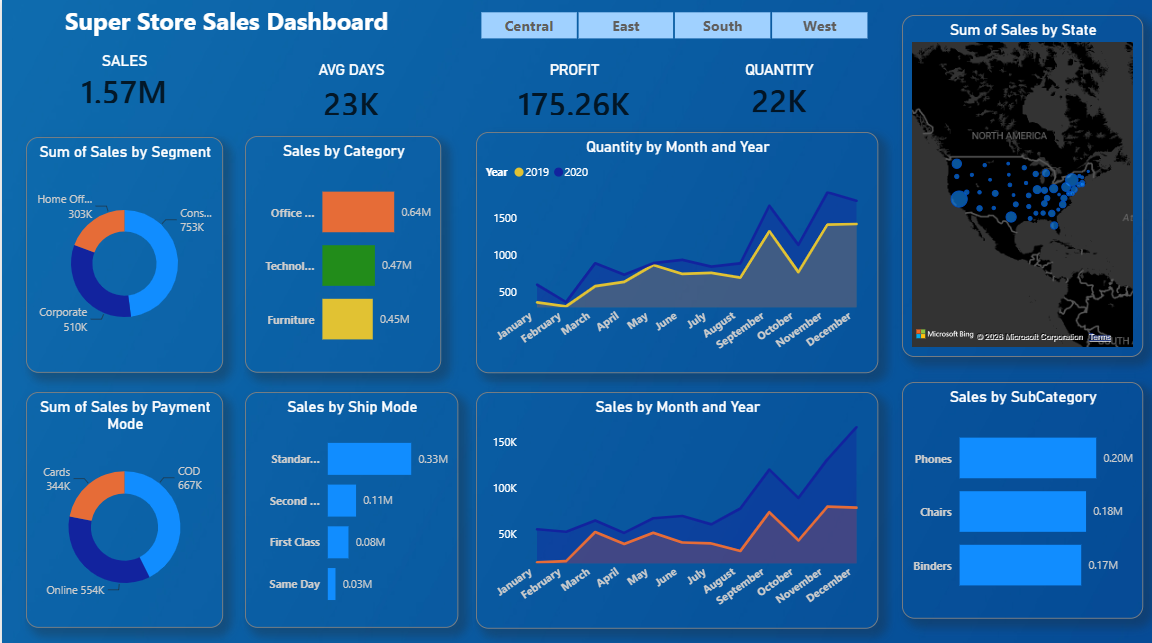

The dashboard page shown, as its layout file describes it:
{"tool":"powerbi","page":{"name":"Page 1","canvas":[1280,720],"ordinal":0},"visuals":[{"type":"clusteredBarChart","title":"Sales by Category","fields":{"Category":["SuperStore_Sales_Dataset.Category"],"Y":["Sum(SuperStore_Sales_Dataset.Sales)"]},"box":[270,152.2,217.8,263.3],"z":0},{"type":"clusteredBarChart","title":"Sales by SubCategory","fields":{"Y":["Sum(SuperStore_Sales_Dataset.Sales)"],"Category":["SuperStore_Sales_Dataset.Sub-Category"]},"box":[1000,425.6,267.8,263.3],"z":1000},{"type":"clusteredBarChart","title":"Sales by Ship Mode","fields":{"Y":["Sum(SuperStore_Sales_Dataset.Sales)"],"Category":["SuperStore_Sales_Dataset.Ship Mode"]},"box":[270,436.7,236.7,262.2],"z":2000},{"type":"areaChart","title":"Sales by Month and Year","fields":{"Y":["Sum(SuperStore_Sales_Dataset.Sales)"],"Series":["SuperStore_Sales_Dataset.Order Date.Variation.Date Hierarchy.Year"],"Category":["SuperStore_Sales_Dataset.Order Date.Variation.Date Hierarchy.Month","SuperStore_Sales_Dataset.Order Date.Variation.Date Hierarchy.Day"]},"box":[526.7,436.7,446.7,263.3],"z":3000},{"type":"map","fields":{"Category":["SuperStore_Sales_Dataset.State"],"Size":["Sum(SuperStore_Sales_Dataset.Sales)"]},"box":[1000,17.8,267.8,380],"z":4000},{"type":"areaChart","title":"Quantity by Month and Year","fields":{"Series":["SuperStore_Sales_Dataset.Order Date.Variation.Date Hierarchy.Year"],"Category":["SuperStore_Sales_Dataset.Order Date.Variation.Date Hierarchy.Month","SuperStore_Sales_Dataset.Order Date.Variation.Date Hierarchy.Day"],"Y":["Sum(SuperStore_Sales_Dataset.Quantity)"]},"box":[526.7,147.8,446.7,267.8],"z":5000},{"type":"donutChart","fields":{"Category":["SuperStore_Sales_Dataset.Segment"],"Y":["Sum(SuperStore_Sales_Dataset.Sales)"]},"box":[26.7,153.3,218.9,262.2],"z":6000},{"type":"donutChart","fields":{"Y":["Sum(SuperStore_Sales_Dataset.Sales)"],"Category":["SuperStore_Sales_Dataset.Payment Mode"]},"box":[26.7,436.7,218.9,262.2],"z":7000},{"type":"slicer","fields":{"Values":["SuperStore_Sales_Dataset.Region"]},"box":[506.7,7.8,478.9,42.2],"z":8000},{"type":"textbox","box":[0,0,506.7,58.9],"z":9000},{"type":"cardVisual","title":"SALES","fields":{"Data":["Sum(SuperStore_Sales_Dataset.Sales)"]},"box":[26.7,58.9,218.9,62.2],"z":9001},{"type":"cardVisual","title":"AVG DAYS","fields":{"Data":["Sum(SuperStore_Sales_Dataset.AvgDelivery)"]},"box":[270,68.9,236.7,68.9],"z":9002},{"type":"cardVisual","title":"PROFIT","fields":{"Data":["Sum(SuperStore_Sales_Dataset.Profit)"]},"box":[526.7,68.9,218.9,68.9],"z":9003},{"type":"cardVisual","title":"QUANTITY","fields":{"Data":["Sum(SuperStore_Sales_Dataset.Quantity)"]},"box":[754.4,68.9,218.9,62.2],"z":9004}]}

Visuals, with their boxes in screenshot pixels (x1, y1, x2, y2), scaled from the page's 1280x720 canvas onto the 1152x643 screenshot:
"Sales by Category" clusteredBarChart: detection(243, 136, 439, 371)
"Sales by SubCategory" clusteredBarChart: detection(900, 380, 1141, 615)
"Sales by Ship Mode" clusteredBarChart: detection(243, 390, 456, 624)
"Sales by Month and Year" areaChart: detection(474, 390, 876, 625)
map - SuperStore_Sales_Dataset.State x Sum(SuperStore_Sales_Dataset.Sales): detection(900, 16, 1141, 355)
"Quantity by Month and Year" areaChart: detection(474, 132, 876, 371)
donutChart - SuperStore_Sales_Dataset.Segment x Sum(SuperStore_Sales_Dataset.Sales): detection(24, 137, 221, 371)
donutChart - Sum(SuperStore_Sales_Dataset.Sales) x SuperStore_Sales_Dataset.Payment Mode: detection(24, 390, 221, 624)
slicer - SuperStore_Sales_Dataset.Region: detection(456, 7, 887, 45)
textbox: detection(0, 0, 456, 53)
"SALES" cardVisual: detection(24, 53, 221, 108)
"AVG DAYS" cardVisual: detection(243, 62, 456, 123)
"PROFIT" cardVisual: detection(474, 62, 671, 123)
"QUANTITY" cardVisual: detection(679, 62, 876, 117)
